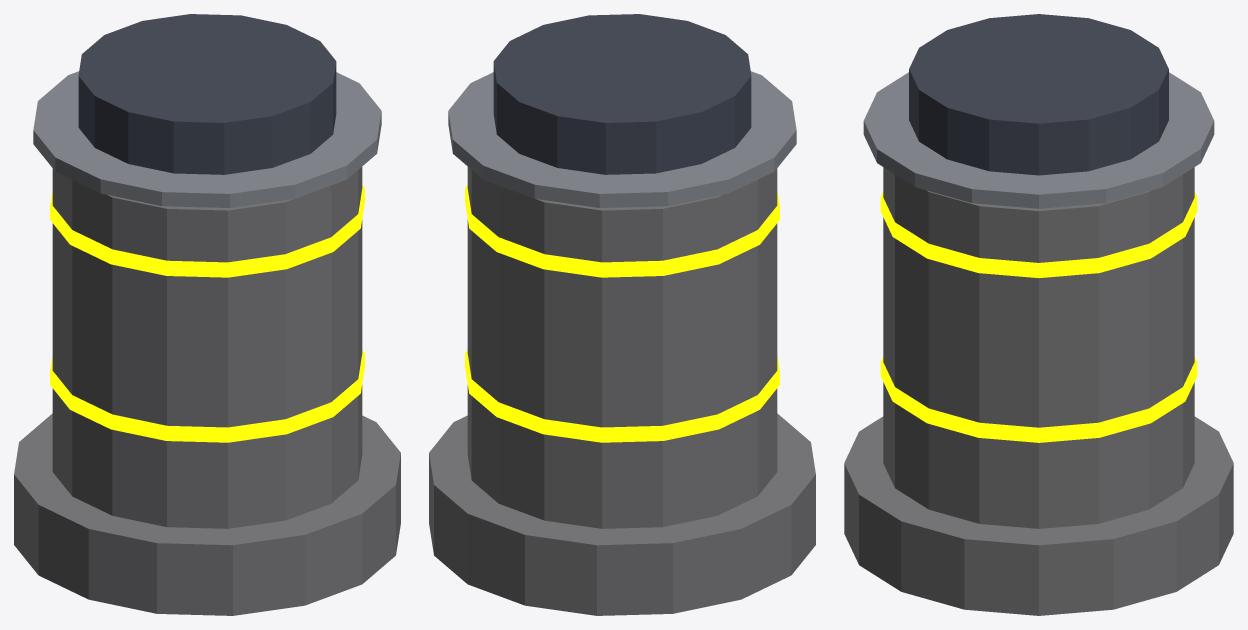
Rendered from PROP_CoolingTower_LG.glb.
3 renders of one model, left to right at view 1: azimuth 30°, elevation 25°; view 2: azimuth 150°, elevation 25°; view 3: azimuth 270°, elevation 25°, orthographic.
Visible parts, largest first — view 1: PROP_CoolingTower_LG; view 2: PROP_CoolingTower_LG; view 3: PROP_CoolingTower_LG.
Part boxes in pixels (x1,y1,x2,y2): PROP_CoolingTower_LG: [14, 14, 400, 615]; PROP_CoolingTower_LG: [429, 14, 815, 615]; PROP_CoolingTower_LG: [844, 14, 1233, 615].
Bounding box in the file's own units: 3 × 3.95 × 3.
